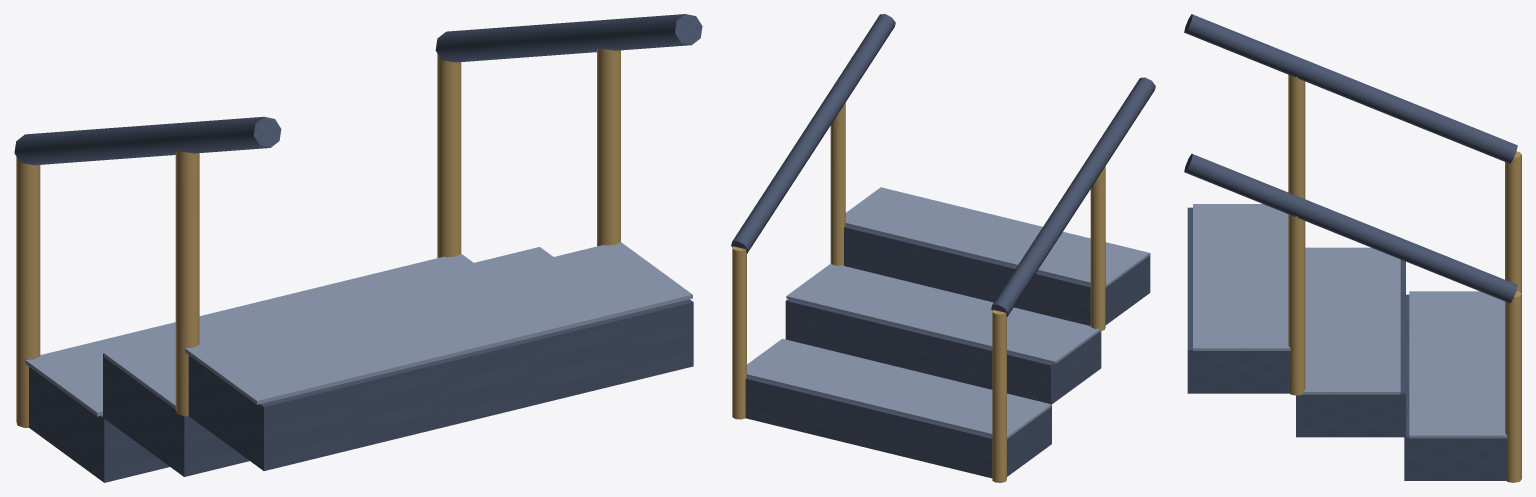
Rendered from stairs-small.glb.
3 renders of one model, left to right at view 1: azimuth 30°, elevation 25°; view 2: azimuth 150°, elevation 25°; view 3: azimuth 270°, elevation 25°, orthographic. The views are drawn at different scales.
Parts seen in each view (by area): view 1: stairs-small_stone, stairs-small_edge, stairs-small_gold; view 2: stairs-small_stone, stairs-small_edge, stairs-small_gold; view 3: stairs-small_edge, stairs-small_stone, stairs-small_gold.
Part boxes in pixels (x1,y1,x2,y2): stairs-small_stone: (14,14,702,482); stairs-small_edge: (25,242,692,416); stairs-small_gold: (16,47,620,427); stairs-small_stone: (731,14,1155,478); stairs-small_edge: (746,187,1149,438); stairs-small_gold: (732,103,1105,482); stairs-small_edge: (1193,204,1507,438); stairs-small_stone: (1184,14,1517,480); stairs-small_gold: (1288,74,1521,482).
Bounding box in the file's own units: 1.46 × 1.49 × 1.4.
Materials: 3 (1 with a texture image).
